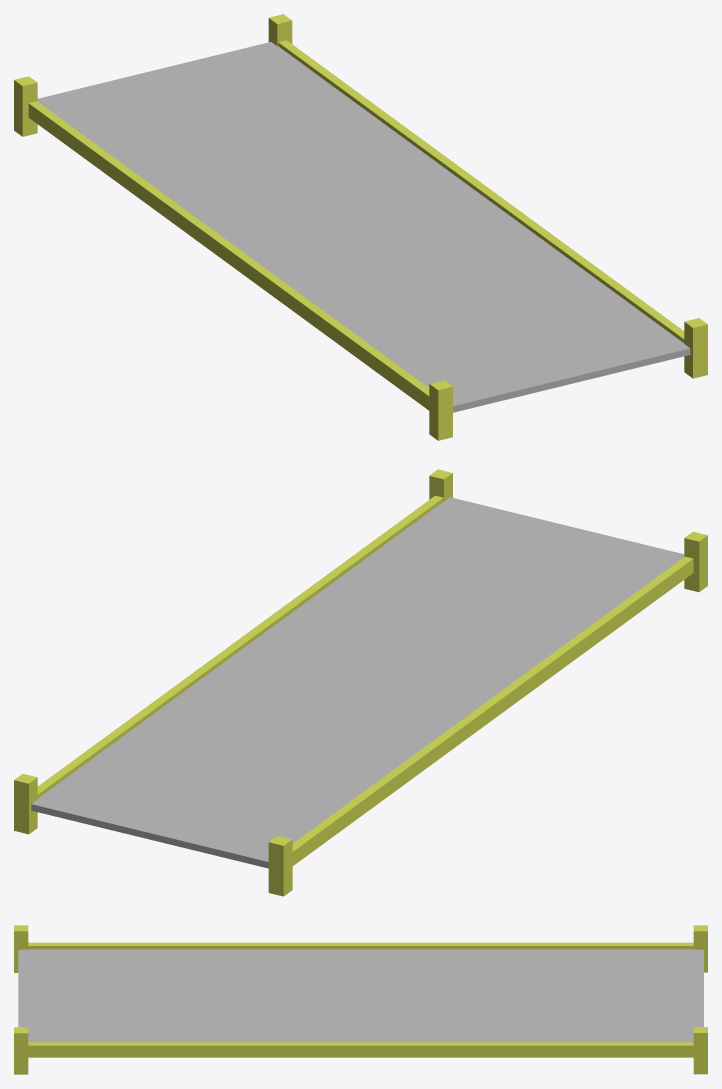
The model's file is SM_Rack_200.fbx.
3 views of the same model, one above another, from view 1: azimuth 30°, elevation 25°; view 2: azimuth 150°, elevation 25°; view 3: azimuth 270°, elevation 25° (orthographic). The views are drawn at different scales.
Visible parts, largest first — view 1: SM_Rack_200; view 2: SM_Rack_200; view 3: SM_Rack_200.
Part boxes in pixels (x1=…): SM_Rack_200: x1=14, y1=14, x2=707, y2=440; SM_Rack_200: x1=14, y1=469, x2=707, y2=896; SM_Rack_200: x1=14, y1=925, x2=707, y2=1074.
Bounding box in the file's own units: 112 × 20 × 304.
